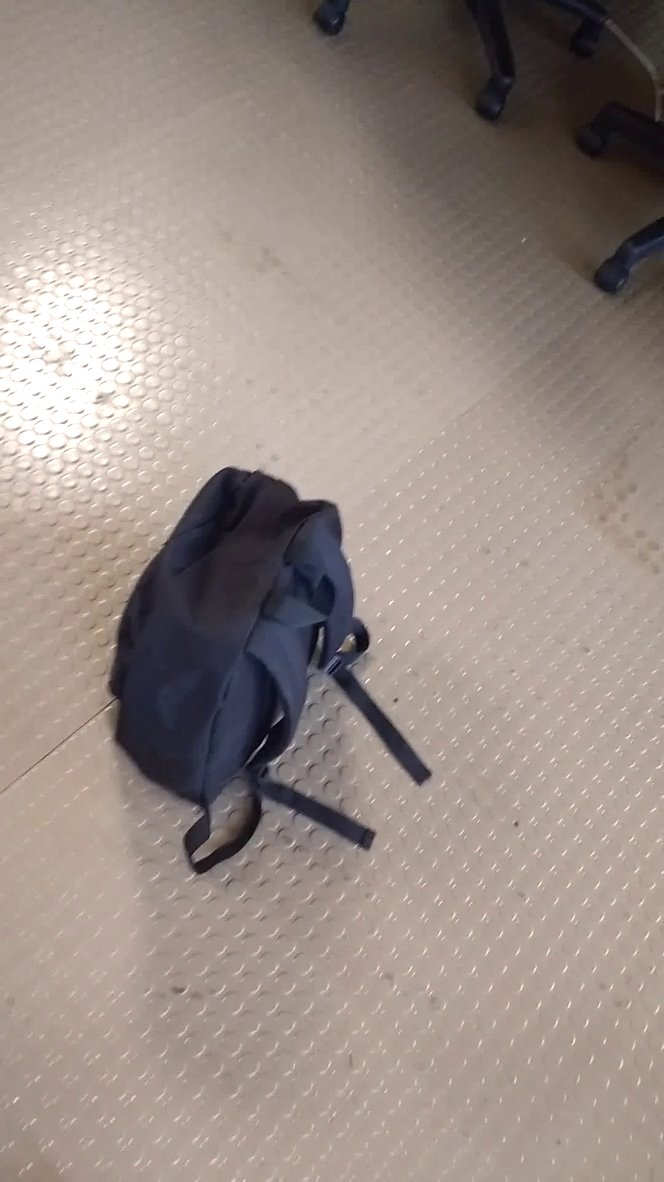bag: (85, 455, 448, 884)
